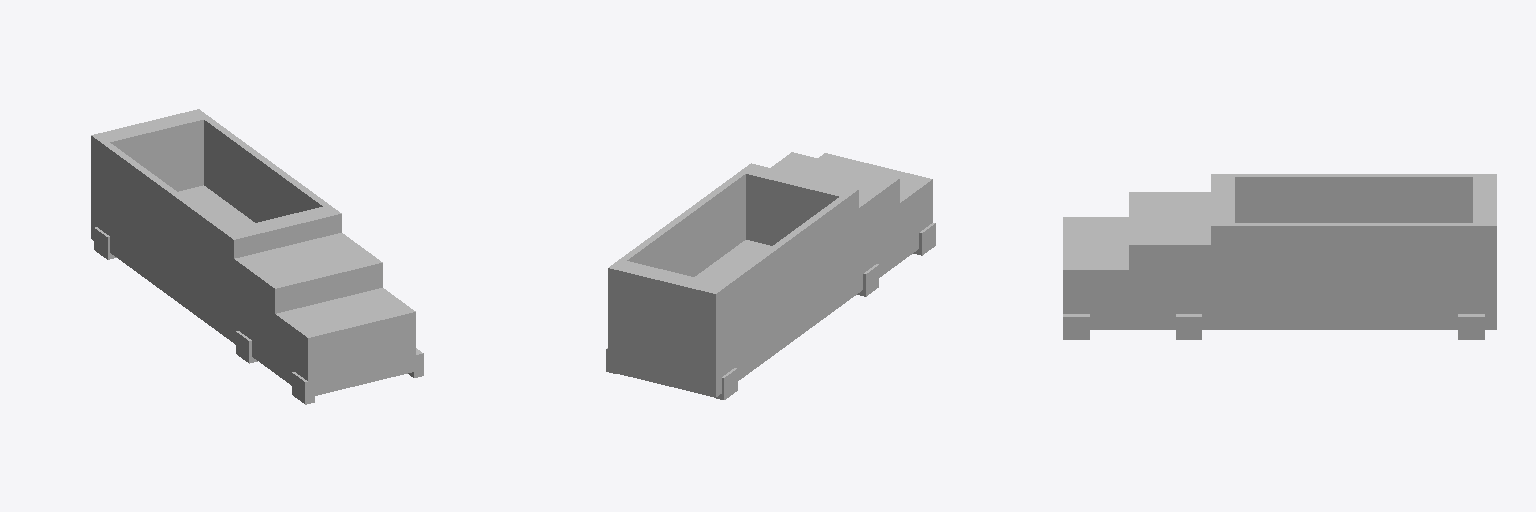
The model's file is Camion.obj.
3 renders of one model, left to right at view 1: azimuth 30°, elevation 25°; view 2: azimuth 150°, elevation 25°; view 3: azimuth 270°, elevation 25°, orthographic.
Parts seen in each view (by area): view 1: Camion; view 2: Camion; view 3: Camion.
Boxes of the visible parts, <box> form: Camion: <box>91,109,423,404</box>; Camion: <box>606,152,935,399</box>; Camion: <box>1063,174,1496,339</box>.
Bounding box in the file's own units: 3.1 × 2.76 × 9.87.